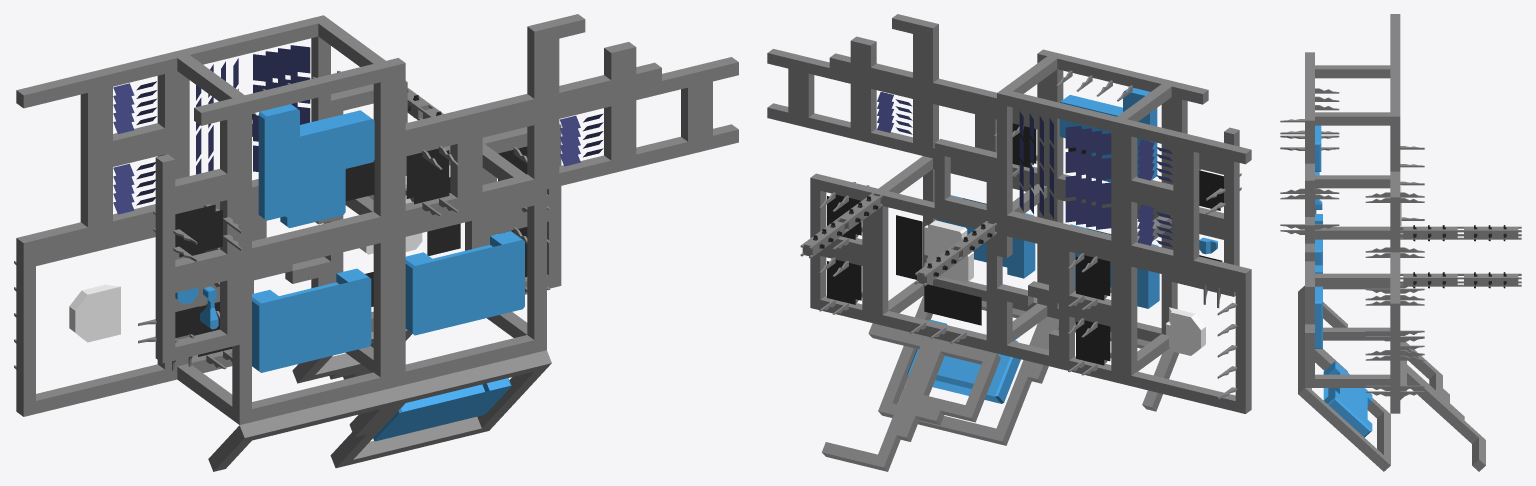
File: StarbaseAtlasProjectKingdomOutpost.glb
3 views of the same model, side by side, from view 1: azimuth 30°, elevation 25°; view 2: azimuth 150°, elevation 25°; view 3: azimuth 270°, elevation 25° (orthographic). The views are drawn at different scales.
Parts seen in each view (by area): view 1: Block_Ship_Shop_Kingdom.002, Block_Ship_Hangars_Kingdom.006, Block_Ship_Hangars_Kingdom.005, Block_Ship_Hangars_Kingdom.007, Block_Command_Center.005, Block_Solar.007, Quarter_Block_Towers.170, Quarter_Block_Spawn_Kingdom.002, Quarter_Block_Towers.171, Block_Half.043, Quarter_Block_solar.033, Quarter_Block_solar.034 (+20 smaller); view 2: Block_Solar.007, Block_Marketplace.005, Block_Command_Center.005, Block_Ship_Hangars_Kingdom.007, Block_Ship_Shop_Kingdom.002, Quarter_Block_Towers.166, Quarter_Block_Towers.167, Quarter_Block_solar.033, Block_Half.043, Block_Ship_Hangars_Kingdom.005, Quarter_Block_Towers.169, Quarter_Block_solar.032 (+30 smaller); view 3: Block_Ship_Hangars_Kingdom.007, Block_Half.096, Quarter_Block_Towers.168, Quarter_Block_Towers.169, Block_Solar.007, Block_Ship_Shop_Kingdom.002, Quarter_Block_Pillar.022, Quarter_Block_Pillar.015, Quarter_Block_Pillar.019, Quarter_Block_Pillar.021, Block_Ship_Hangars_Kingdom.005, Quarter_Block_Pillar.016 (+22 smaller).
Part boxes in pixels (left/top/right/bottom): Block_Ship_Shop_Kingdom.002: left=233, top=61, right=393, bottom=264; Block_Ship_Hangars_Kingdom.006: left=232, top=227, right=393, bottom=424; Block_Ship_Hangars_Kingdom.005: left=393, top=189, right=546, bottom=387; Block_Ship_Hangars_Kingdom.007: left=330, top=350, right=551, bottom=468; Block_Command_Center.005: left=14, top=224, right=177, bottom=416; Block_Solar.007: left=170, top=15, right=330, bottom=213; Quarter_Block_Towers.170: left=153, top=184, right=241, bottom=282; Quarter_Block_Spawn_Kingdom.002: left=138, top=264, right=239, bottom=370; Quarter_Block_Towers.171: left=393, top=128, right=469, bottom=226; Block_Half.043: left=16, top=71, right=100, bottom=255; Quarter_Block_solar.033: left=93, top=53, right=177, bottom=156; Quarter_Block_solar.034: left=547, top=90, right=623, bottom=189; Block_Solar.007: left=997, top=89, right=1126, bottom=253; Block_Marketplace.005: left=872, top=188, right=1002, bottom=353; Block_Command_Center.005: left=1121, top=253, right=1251, bottom=413; Block_Ship_Hangars_Kingdom.007: left=878, top=295, right=1050, bottom=445; Block_Ship_Shop_Kingdom.002: left=1047, top=52, right=1176, bottom=216; Quarter_Block_Towers.166: left=1059, top=238, right=1121, bottom=318; Quarter_Block_Towers.167: left=1059, top=303, right=1121, bottom=383; Quarter_Block_solar.033: left=1121, top=119, right=1188, bottom=203; Block_Half.043: left=1183, top=134, right=1251, bottom=283; Block_Ship_Hangars_Kingdom.005: left=923, top=158, right=1047, bottom=311; Quarter_Block_Towers.169: left=810, top=247, right=872, bottom=322; Quarter_Block_solar.032: left=1121, top=188, right=1183, bottom=268; Block_Ship_Hangars_Kingdom.007: left=1298, top=337, right=1390, bottom=471; Block_Half.096: left=1400, top=363, right=1485, bottom=471; Quarter_Block_Towers.168: left=1365, top=278, right=1424, bottom=358; Quarter_Block_Towers.169: left=1365, top=350, right=1424, bottom=413; Block_Solar.007: left=1390, top=65, right=1400, bottom=171; Block_Ship_Shop_Kingdom.002: left=1305, top=65, right=1339, bottom=171; Quarter_Block_Pillar.022: left=1315, top=112, right=1390, bottom=125; Quarter_Block_Pillar.015: left=1315, top=273, right=1390, bottom=286; Quarter_Block_Pillar.019: left=1315, top=175, right=1390, bottom=188; Quarter_Block_Pillar.021: left=1315, top=65, right=1390, bottom=78; Block_Ship_Hangars_Kingdom.005: left=1305, top=265, right=1322, bottom=387; Quarter_Block_Pillar.016: left=1315, top=374, right=1390, bottom=387.
Size of the model in its own units: 1573 by 1023 by 735.
